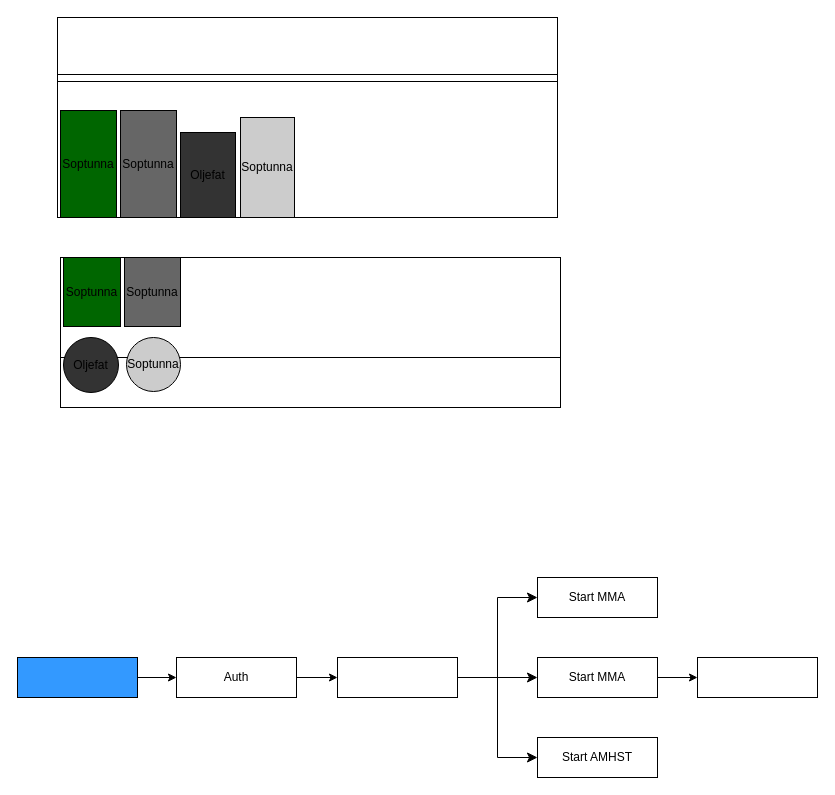
Some shapes in this 835 by 795 pixel diagram are drawn without their labels. Each missing label, with the centre of its shape:
"START" belongs at [77,677].
"Start AWP" belongs at [757,677].
"Verify" belongs at [397,677].
